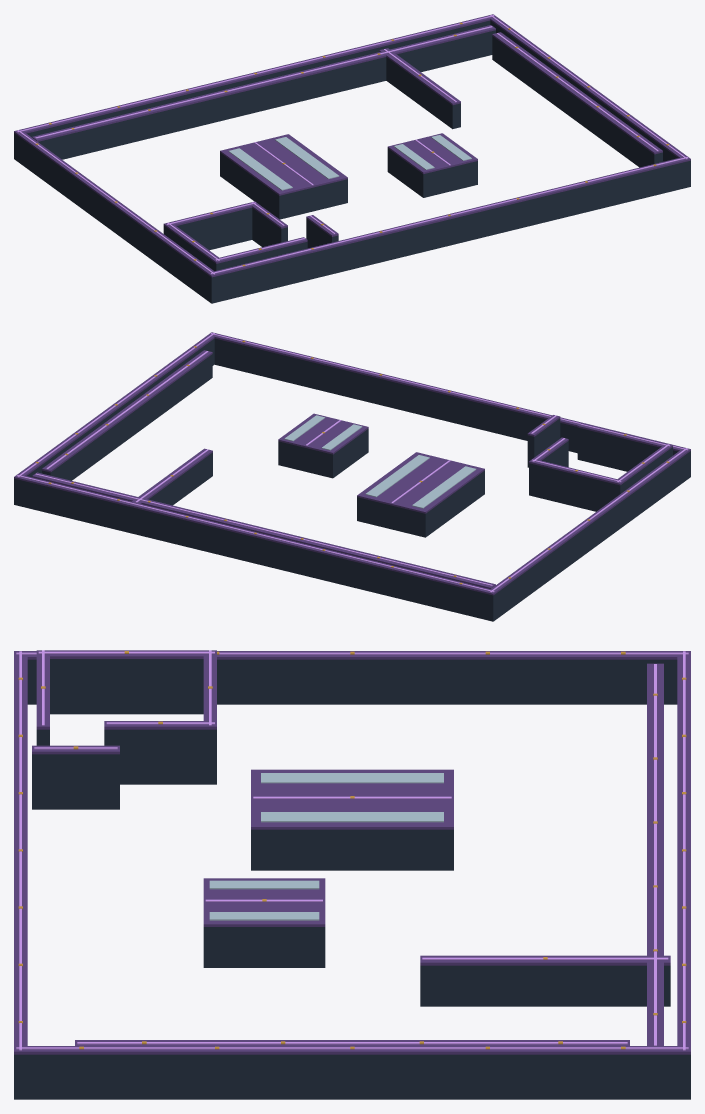
Rendered from campaign_citadel.runtime.gltf.
3 views of the same model, one above another, from view 1: azimuth 30°, elevation 25°; view 2: azimuth 150°, elevation 25°; view 3: azimuth 270°, elevation 25° (orthographic). The views are drawn at different scales.
Visible parts, largest first — view 1: BATCH material 0, BATCH material 1, BATCH material 3, BATCH material 2; view 2: BATCH material 0, BATCH material 1, BATCH material 3, BATCH material 2; view 3: BATCH material 0, BATCH material 1, BATCH material 3, BATCH material 2, BATCH material 4.
Part boxes in pixels (x1,y1,x2,y2): BATCH material 0: [14, 20, 690, 303]; BATCH material 1: [14, 14, 690, 277]; BATCH material 3: [16, 15, 688, 274]; BATCH material 2: [228, 135, 471, 190]; BATCH material 0: [14, 338, 690, 621]; BATCH material 1: [14, 332, 690, 595]; BATCH material 3: [16, 333, 688, 592]; BATCH material 2: [284, 415, 476, 508]; BATCH material 0: [14, 659, 690, 1099]; BATCH material 1: [14, 650, 690, 1054]; BATCH material 3: [16, 650, 688, 1050]; BATCH material 2: [209, 773, 443, 920]; BATCH material 4: [18, 651, 686, 1049].
Size of the model in its own units: 21 by 1.45 by 15.
